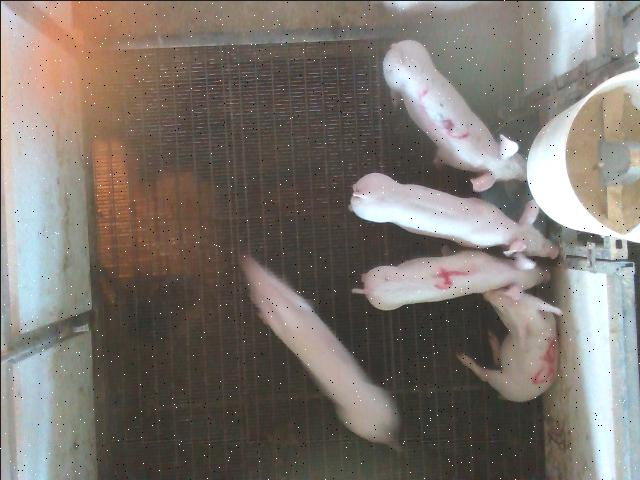pig-2: (240, 254, 399, 449)
pig-3: (382, 39, 525, 190)
pig-4: (355, 249, 549, 309)
pig-5: (456, 285, 561, 401)
